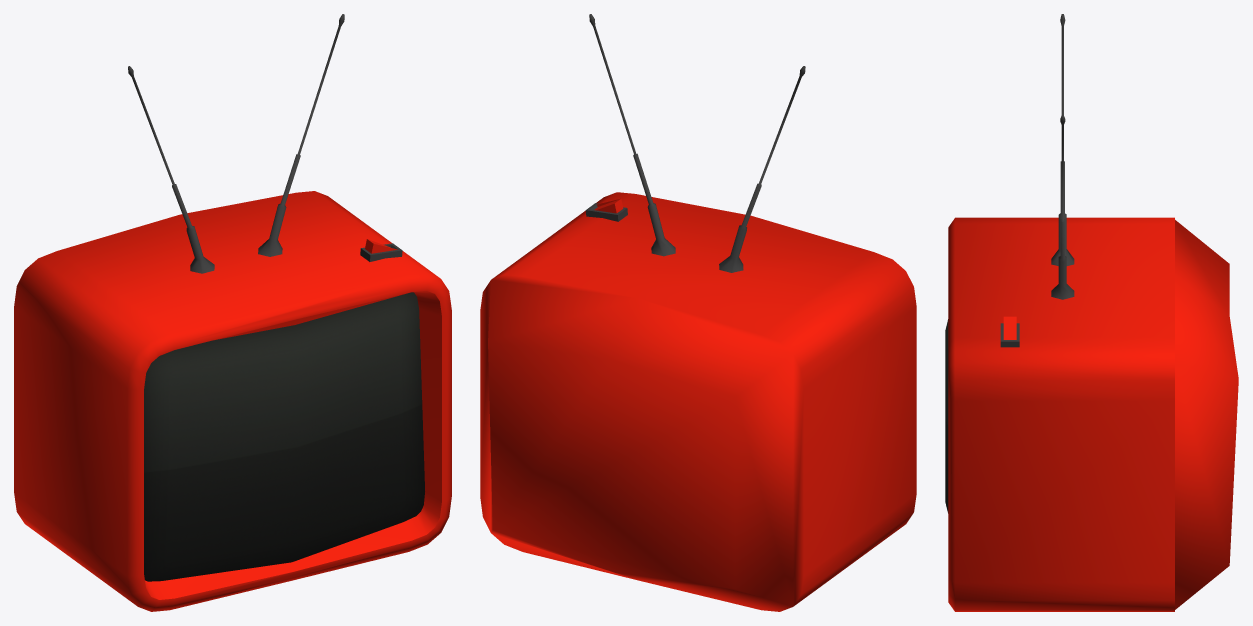
3 views of the same model, side by side, from view 1: azimuth 30°, elevation 25°; view 2: azimuth 150°, elevation 25°; view 3: azimuth 270°, elevation 25° (orthographic). The views are drawn at different scales.
Parts seen in each view (by area): view 1: Tv; view 2: Tv; view 3: Tv.
Part boxes in pixels (box(x1,y1,x2,y2)): Tv: box(14, 14, 451, 611); Tv: box(480, 14, 916, 611); Tv: box(945, 14, 1238, 611).
Size of the model in its own units: 125 by 184 by 101.
